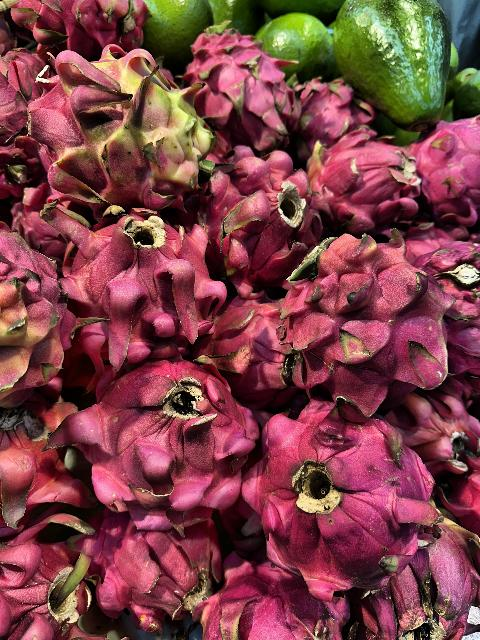buah-naga-belum-matang: (25, 53, 220, 205), (0, 222, 92, 396), (299, 132, 429, 232)
buah-naga-matang: (251, 398, 460, 598), (274, 230, 454, 406), (82, 362, 248, 502), (64, 213, 220, 354), (64, 496, 222, 606), (182, 21, 308, 155), (354, 512, 480, 640), (198, 158, 314, 268), (408, 220, 480, 372), (8, 1, 146, 52), (408, 111, 480, 205)
